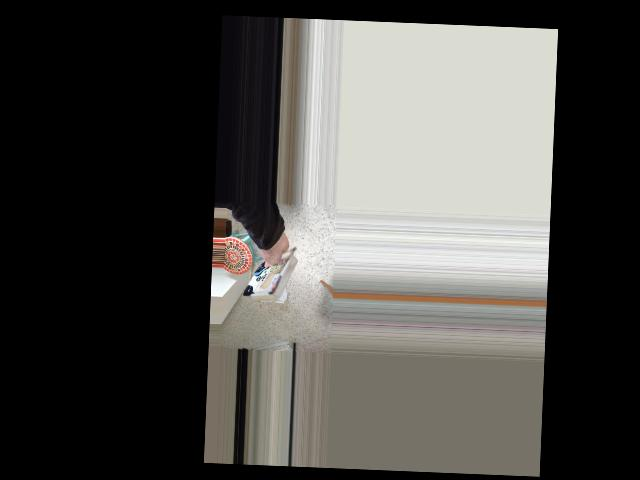cheese: (233, 231, 304, 305)
